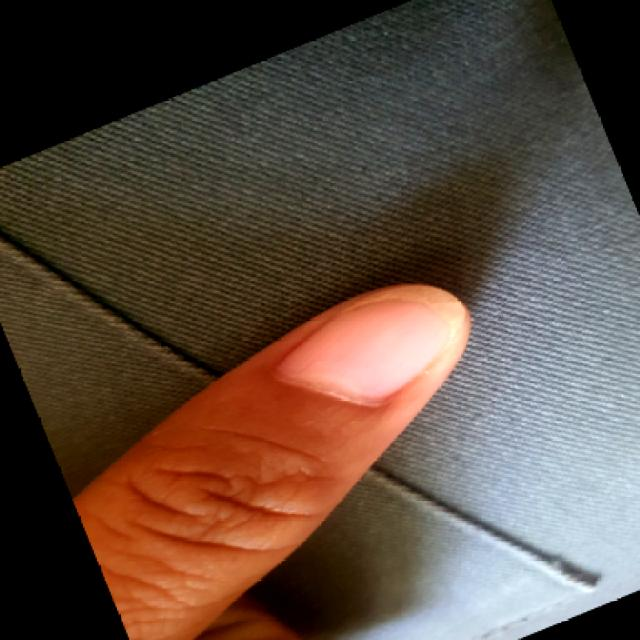Nail: (280, 288, 468, 405)
